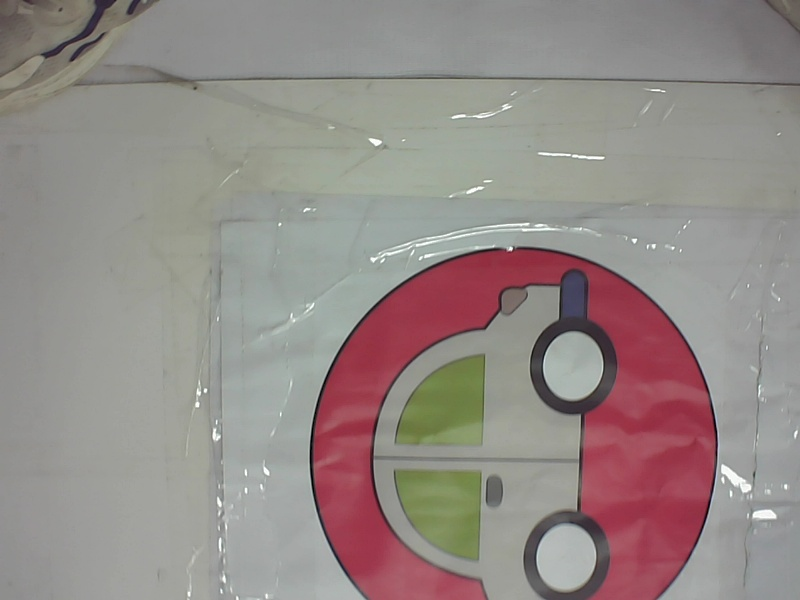areaC: (295, 235, 727, 596)
